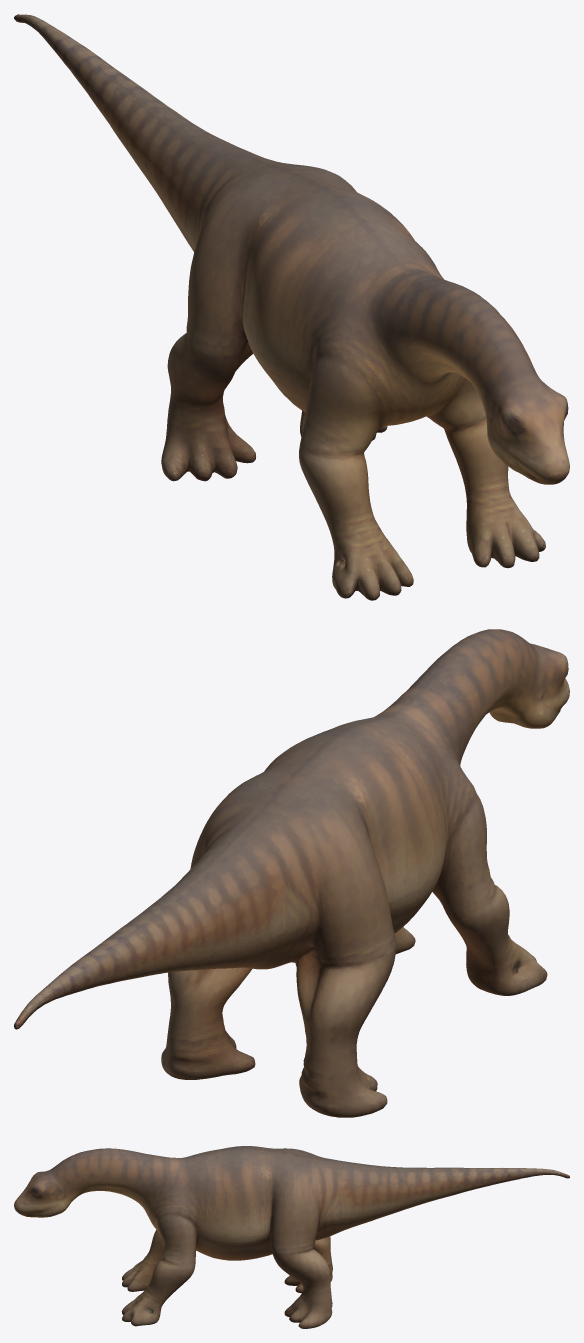
The picture shows the model from 3 angles, top to bottom: view 1: azimuth 30°, elevation 25°; view 2: azimuth 150°, elevation 25°; view 3: azimuth 270°, elevation 25°; orthographic projection. The views are drawn at different scales.
Visible parts, largest first — view 1: world; view 2: world; view 3: world.
Part boxes in pixels (left/top/right/bottom): world: left=14, top=14, right=569, bottom=600; world: left=14, top=629, right=569, bottom=1117; world: left=14, top=1146, right=569, bottom=1328.
Bounding box in the file's own units: 2.08 × 2.77 × 9.
Materials: 1 (1 with a texture image).
